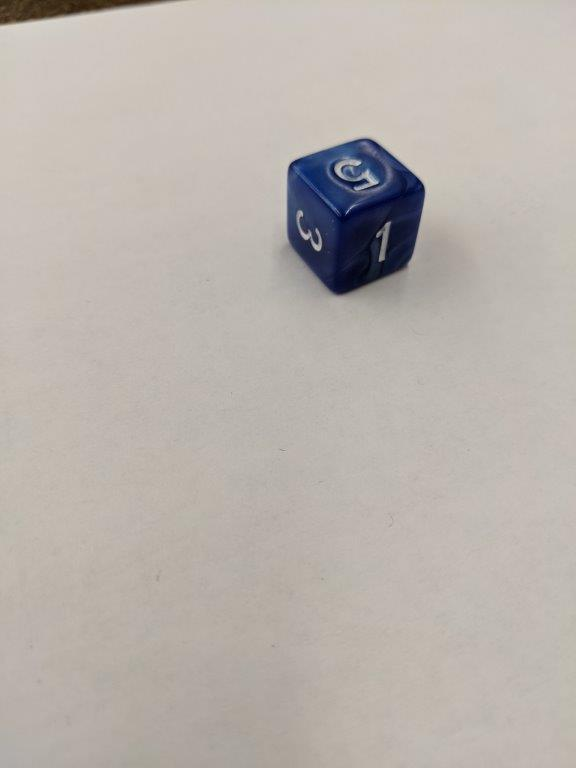d6-5: (286, 135, 424, 295)
